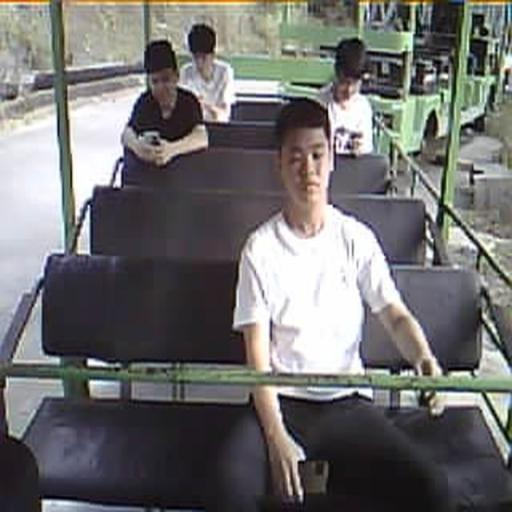persona: (232, 96, 449, 510), (120, 38, 209, 182), (318, 36, 375, 157), (178, 22, 236, 123)
